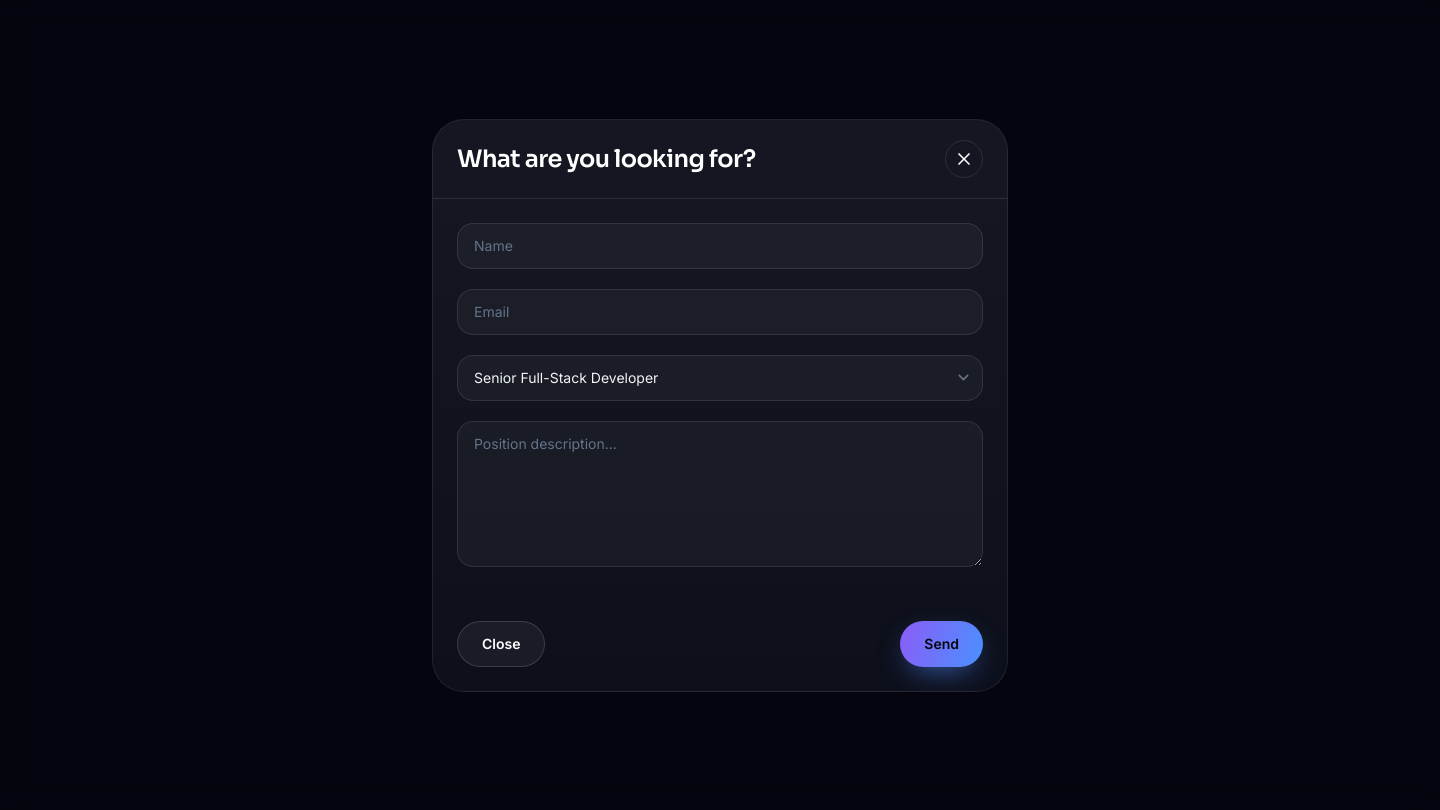
a failed send keeps the modal open and shows an error
This screenshot has width=1440, height=810.
Type "Jane Recruiter" into the field labelled "Name" at (720, 246), box [457,222,983,268]
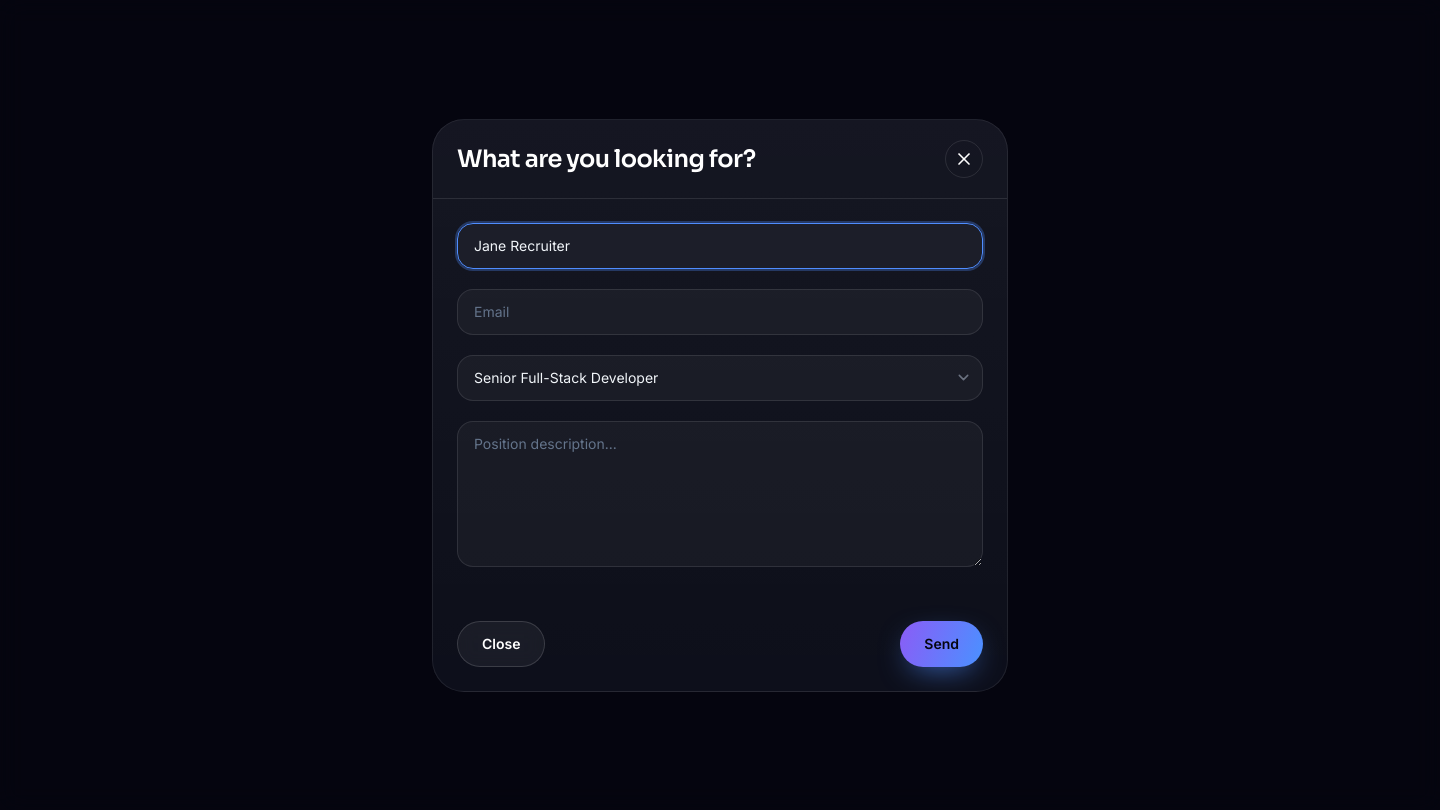
Type "jane@example.com" into the field labelled "Email" at (720, 312), box [457,288,983,334]
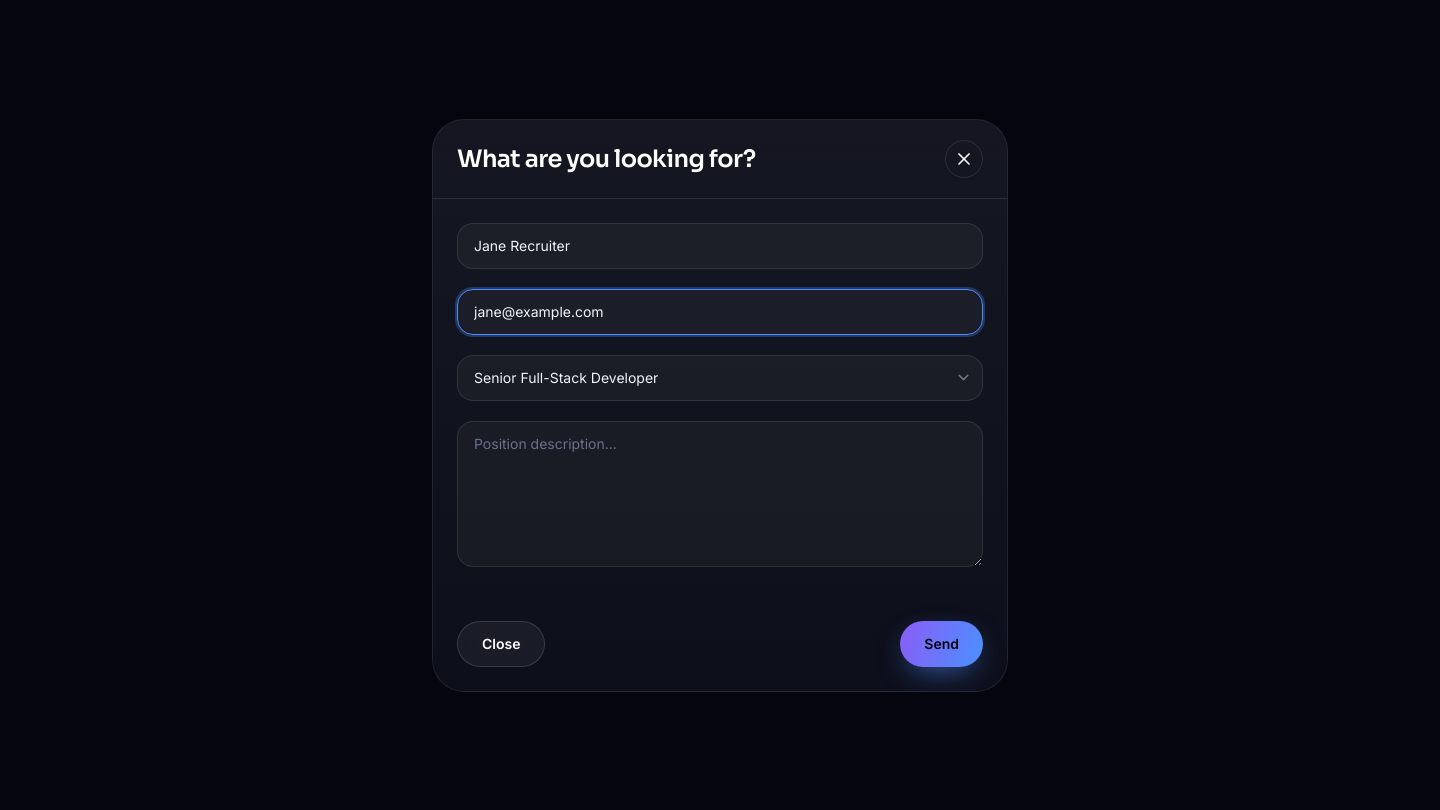
Type "We are hiring." into the text box named "Details" at (720, 494), box [457,420,983,566]
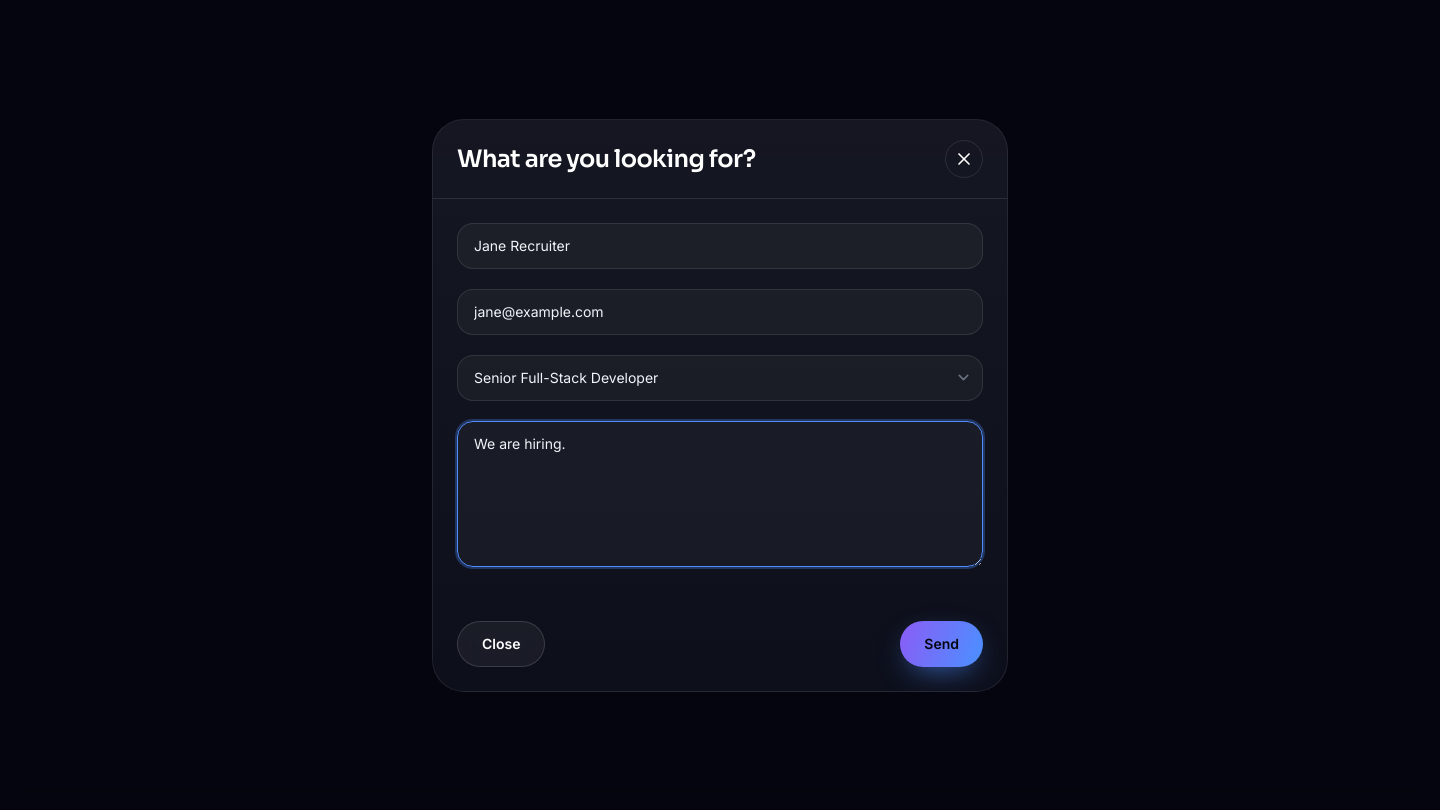
Click the button "Send" at (942, 644), box [900,620,983,666]
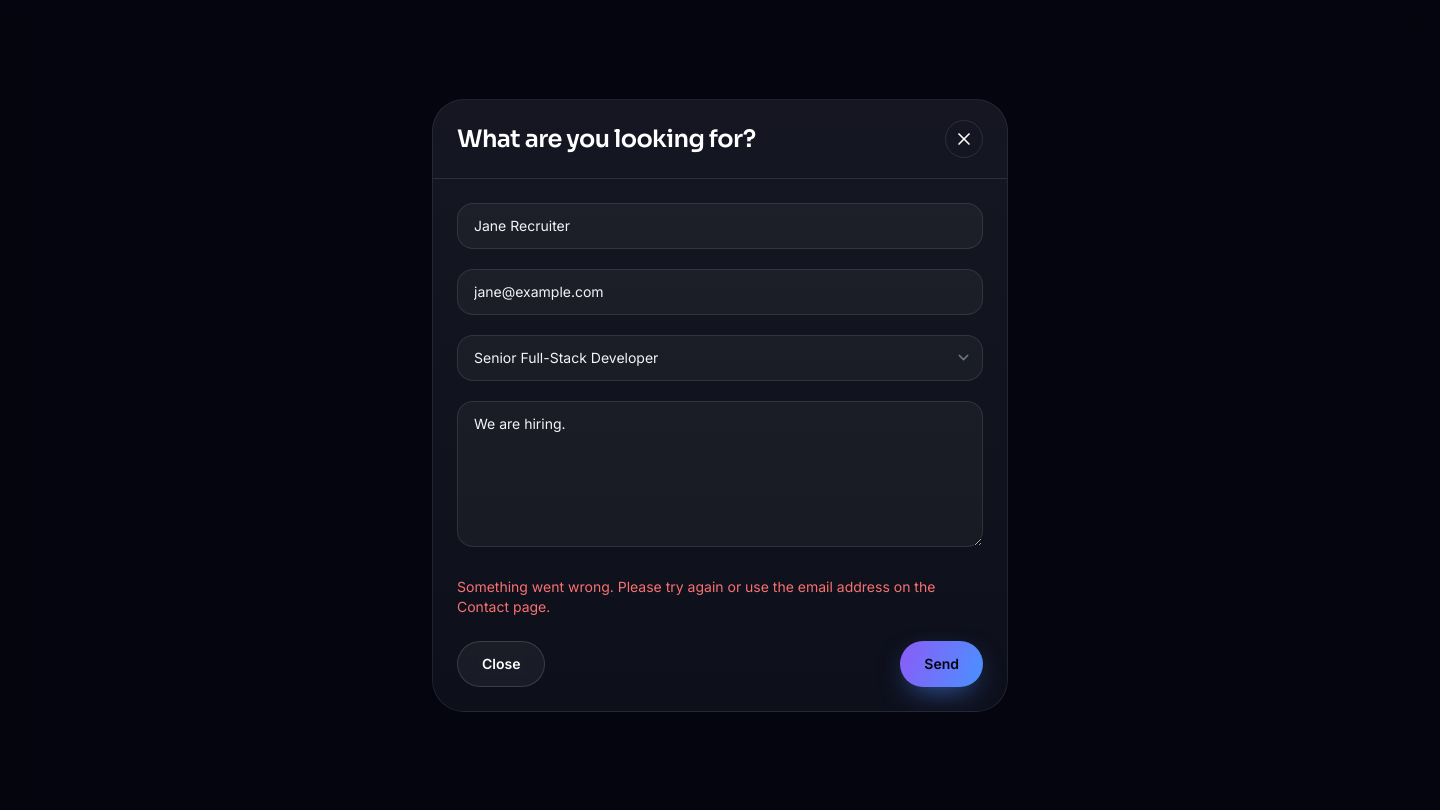
Expected: the message shows "Something went wrong", [457,578,935,614]
